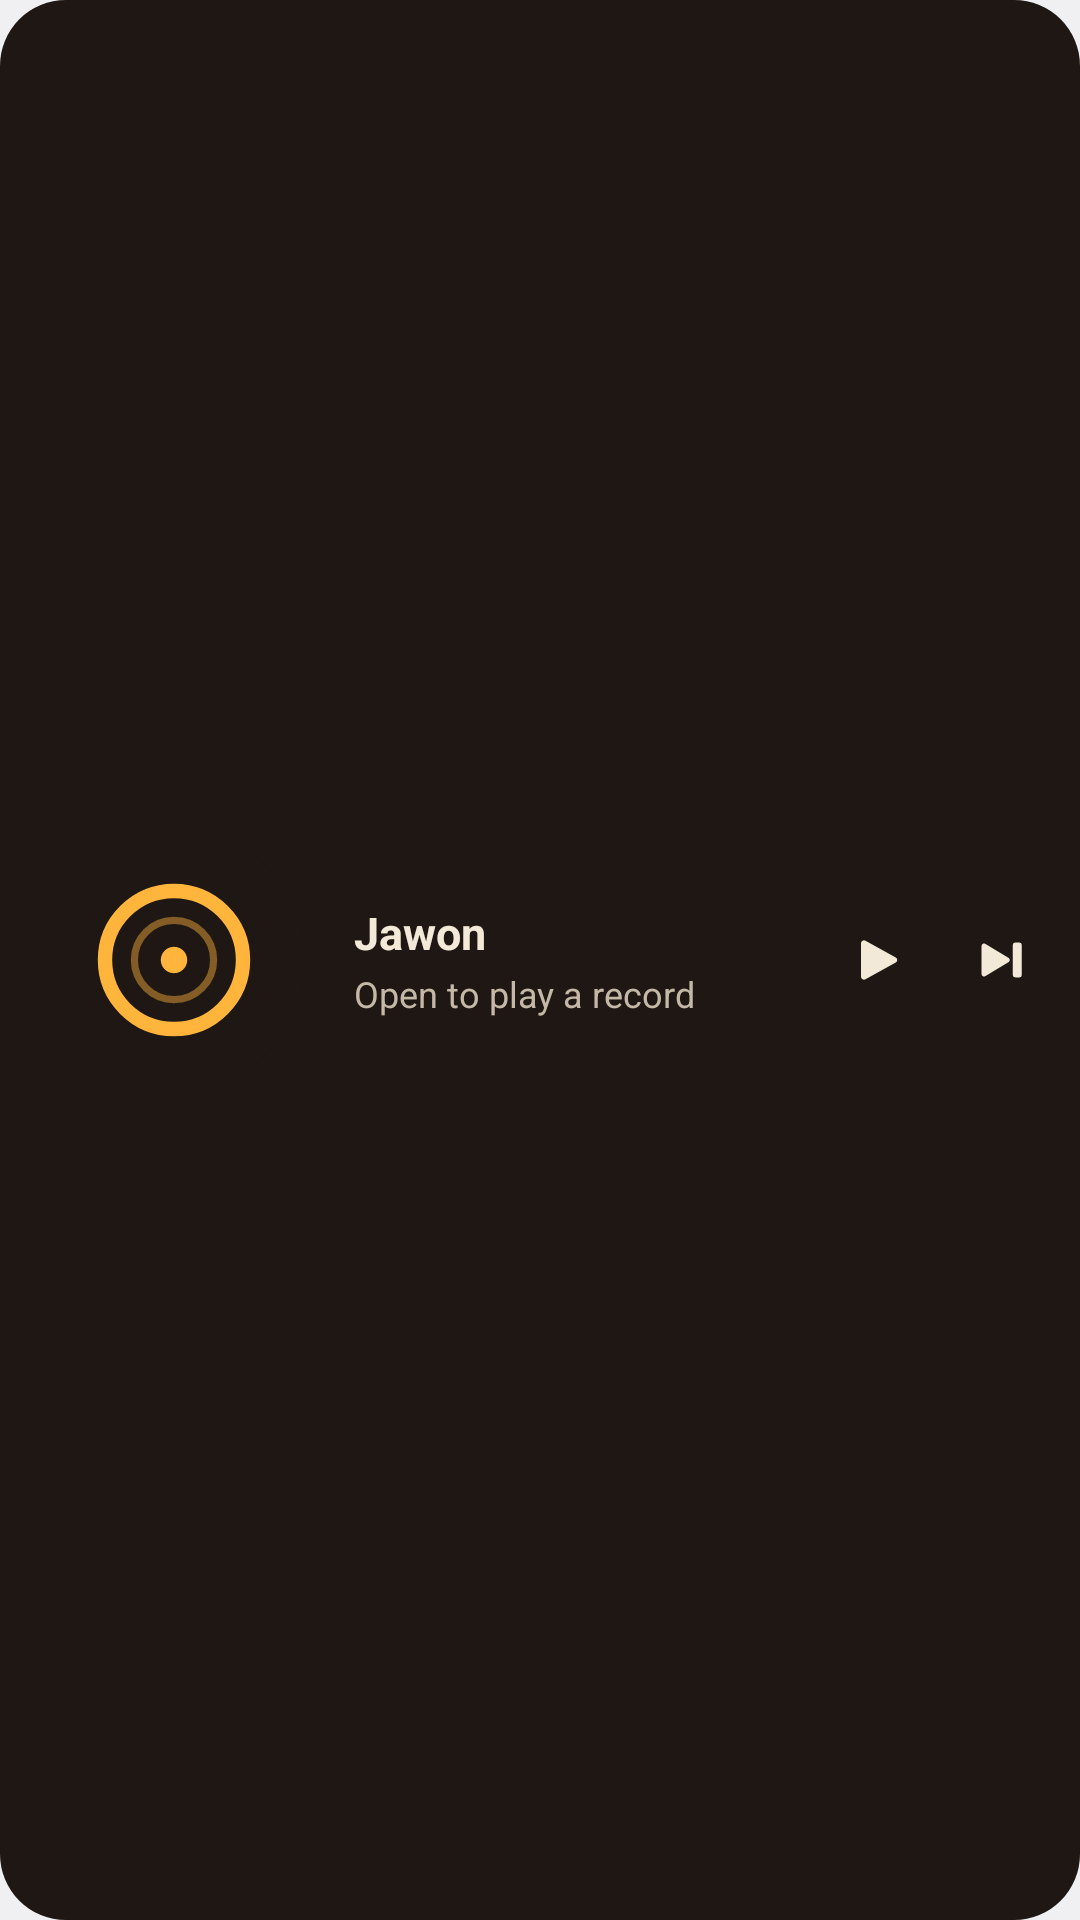

Icons on this 1080px×1920px Android screen, each with its box as [x1, y1, x2, y2]:
Next track: [981, 942, 1022, 978]
